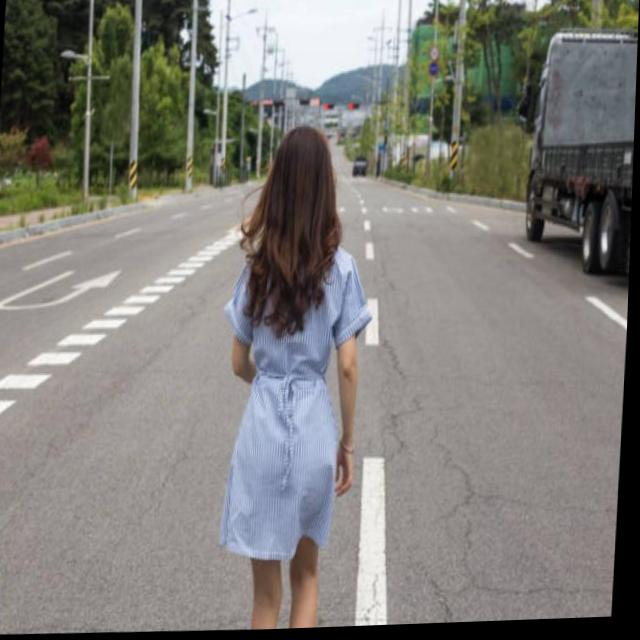no helmet: (259, 119, 340, 245)
